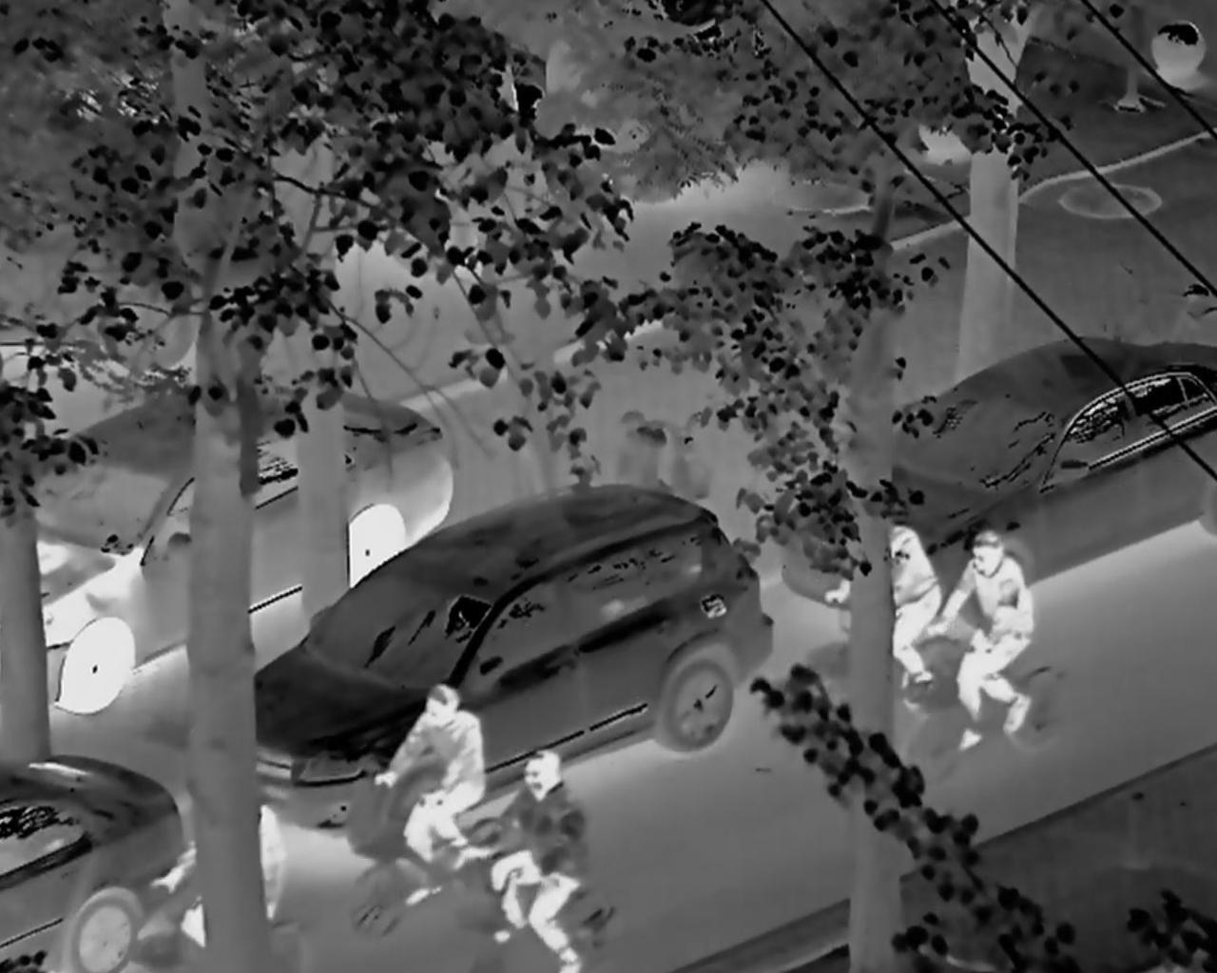person: (937, 526, 1053, 774), (385, 681, 488, 925), (486, 749, 590, 973), (872, 503, 943, 739)
